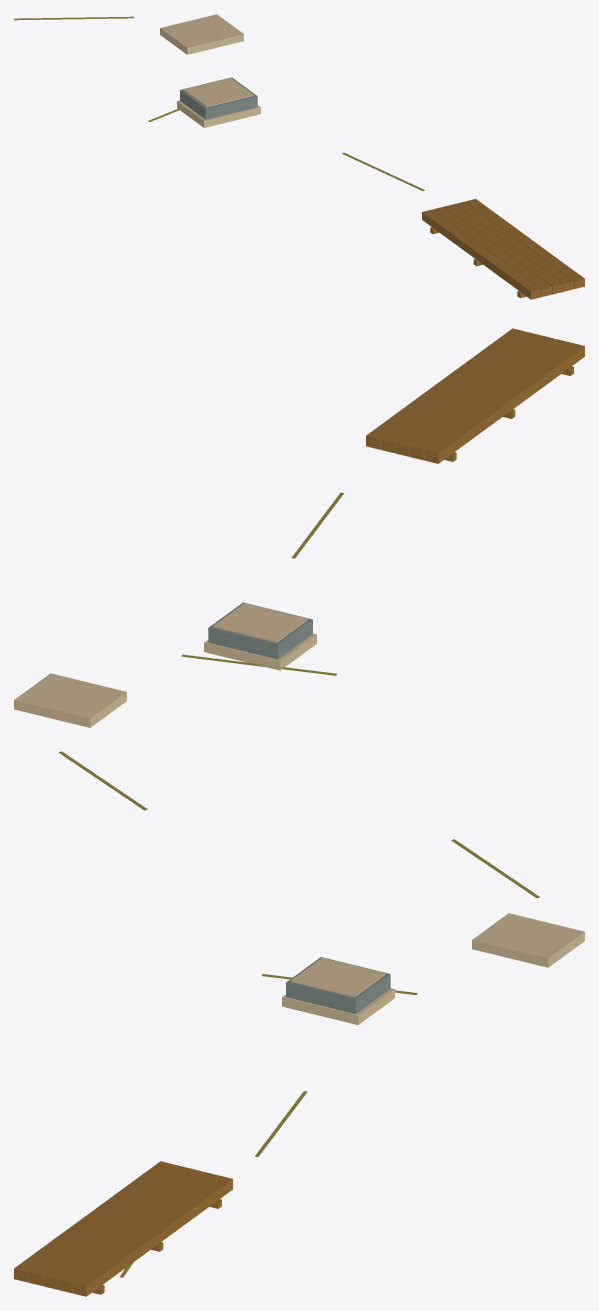
Rendered from SM_CargaMateriales_Vacio_LOD0.fbx.
3 renders of one model, top to bottom at view 1: azimuth 30°, elevation 25°; view 2: azimuth 150°, elevation 25°; view 3: azimuth 330°, elevation 25°, orthographic. The views are drawn at different scales.
Visible parts, largest first — view 1: SM_carga_vagon_v12_LOD0; view 2: SM_carga_vagon_v12_LOD0; view 3: SM_carga_vagon_v12_LOD0.
Boxes of the visible parts, x1,y1,x2,y2 form: SM_carga_vagon_v12_LOD0: [14, 14, 584, 299]; SM_carga_vagon_v12_LOD0: [14, 328, 584, 810]; SM_carga_vagon_v12_LOD0: [14, 839, 584, 1296].
Bounding box in the file's own units: 3.26 × 0.385 × 15.49.
